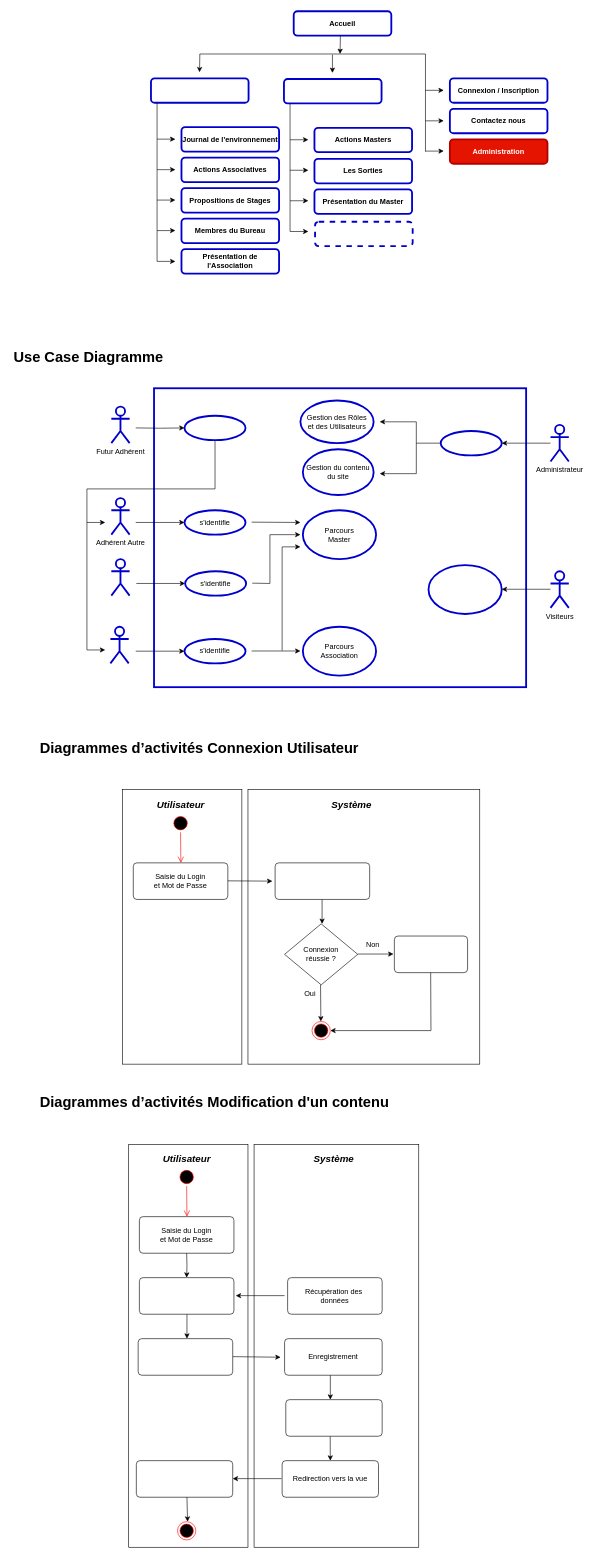
Image size: 594x1558. Some labels were removed from this diagram. Here are the shapes that lost their labels. From the top down, the centre of each, then its label:
At point 199,90: "Association".
At point 332,91: "MASTER GE".
At point 363,234: "Droits de l'étudiant".
At point 214,427: "s'inscrit".
At point 471,443: "s'identifier".
At point 120,577: "Adhérent Master".
At point 464,589: "Parcourir le Site".
At point 119,645: "Adhérent GE".
At point 322,880: "Vérification des informations de connexion".
At point 431,954: "Message d'erreur de connexion".
At point 186,1295: "Affichage des données".
At point 185,1356: "Modification des informations".
At point 333,1417: "Création d'une vue".
At point 184,1478: "Affichage des Modifications".
